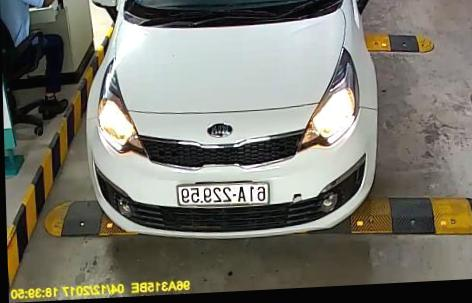License_Plate: (179, 180, 271, 209)
